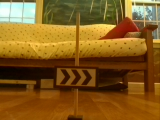right: (54, 66, 99, 89)
